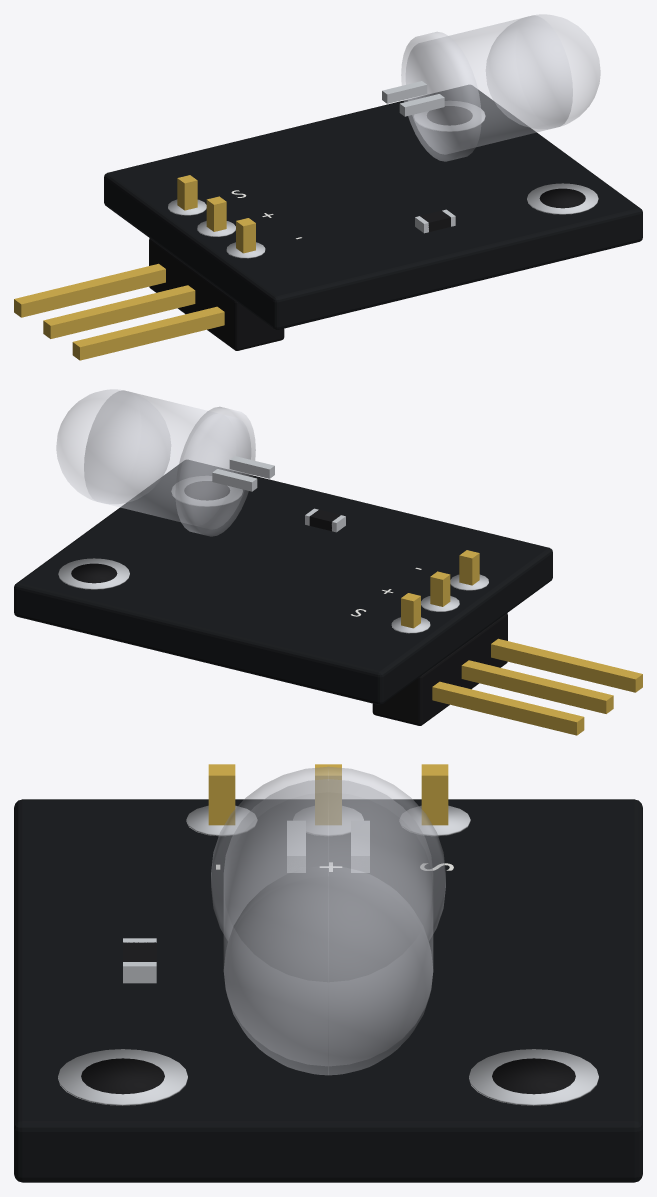
File: ir-emission-module.glb
The picture shows the model from 3 angles, top to bottom: view 1: azimuth 30°, elevation 25°; view 2: azimuth 150°, elevation 25°; view 3: azimuth 270°, elevation 25°; orthographic projection. The views are drawn at different scales.
Visible parts, largest first — view 1: pcb.027, led_body.006, led_dome.006, led_rim.006, header.027, pin_h.094, pin_h.093, pin_h.092, hole_ring.046, hole_ring.045, hole.046, hole.045 (+5 smaller); view 2: pcb.027, led_body.006, led_dome.006, led_rim.006, header.027, pin_h.092, pin_h.093, pin_h.094, hole_ring.045, hole_ring.046, hole.045, hole.046 (+5 smaller); view 3: pcb.027, led_body.006, led_dome.006, led_rim.006, hole_ring.045, hole_ring.046, hole.045, hole.046, pin_v.092, pin_v.094, pin_v.093, pad.092 (+6 smaller).
Boxes of the visible parts, x1,y1,x2,y2 form: pcb.027: [104, 85, 642, 329]; led_body.006: [406, 15, 572, 154]; led_dome.006: [486, 14, 600, 128]; led_rim.006: [401, 32, 481, 161]; header.027: [149, 238, 284, 350]; pin_h.094: [72, 306, 224, 360]; pin_h.093: [43, 285, 195, 338]; pin_h.092: [14, 263, 165, 317]; hole_ring.046: [527, 183, 598, 214]; hole_ring.045: [414, 101, 485, 131]; hole.046: [539, 188, 585, 208]; hole.045: [427, 106, 472, 125]; pcb.027: [14, 460, 552, 704]; led_body.006: [84, 390, 250, 529]; led_dome.006: [56, 389, 170, 503]; led_rim.006: [175, 407, 255, 536]; header.027: [372, 613, 507, 725]; pin_h.092: [432, 681, 584, 735]; pin_h.093: [461, 660, 613, 713]; pin_h.094: [491, 638, 642, 692]; hole_ring.045: [58, 558, 129, 589]; hole_ring.046: [171, 476, 242, 506]; hole.045: [71, 563, 117, 583]; hole.046: [184, 481, 229, 500]; pcb.027: [14, 799, 642, 1182]; led_body.006: [224, 779, 432, 1065]; led_dome.006: [224, 866, 432, 1075]; led_rim.006: [211, 766, 445, 940]; hole_ring.045: [469, 1049, 598, 1105]; hole_ring.046: [58, 1049, 187, 1105]; hole.045: [492, 1058, 575, 1094]; hole.046: [81, 1058, 164, 1094]; pin_v.092: [421, 764, 448, 825]; pin_v.094: [208, 764, 235, 825]; pin_v.093: [315, 764, 341, 824]; pad.092: [399, 805, 470, 836].
Bounding box in the file's own units: 0.0274 × 0.0106 × 0.015.
